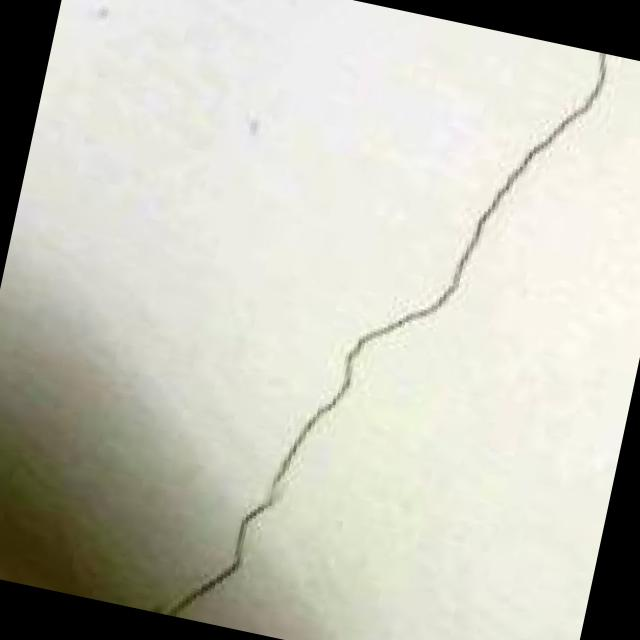crack: (157, 0, 612, 640)
